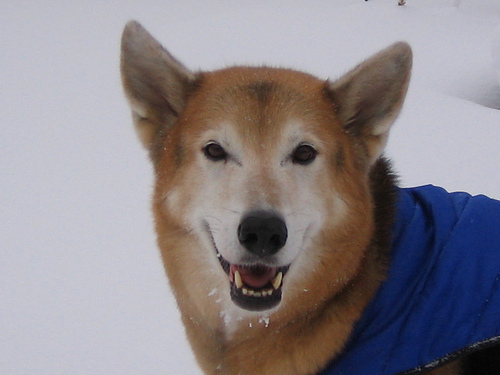dog: (121, 22, 499, 374)
